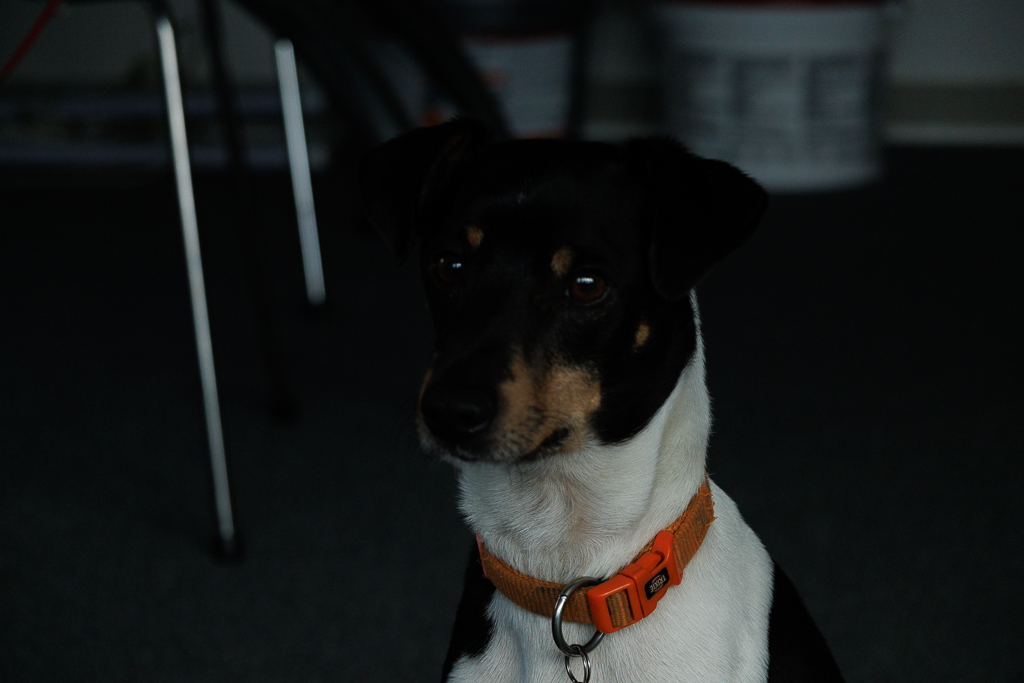Dog: (326, 112, 862, 683)
